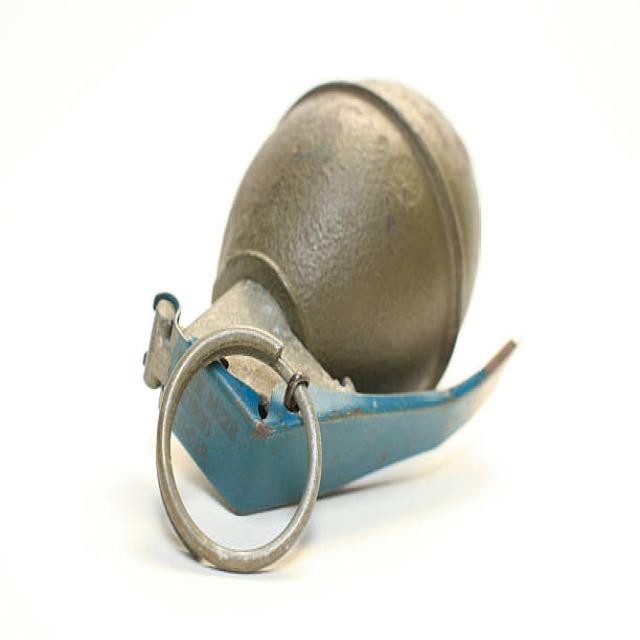grenade: (133, 56, 522, 576)
